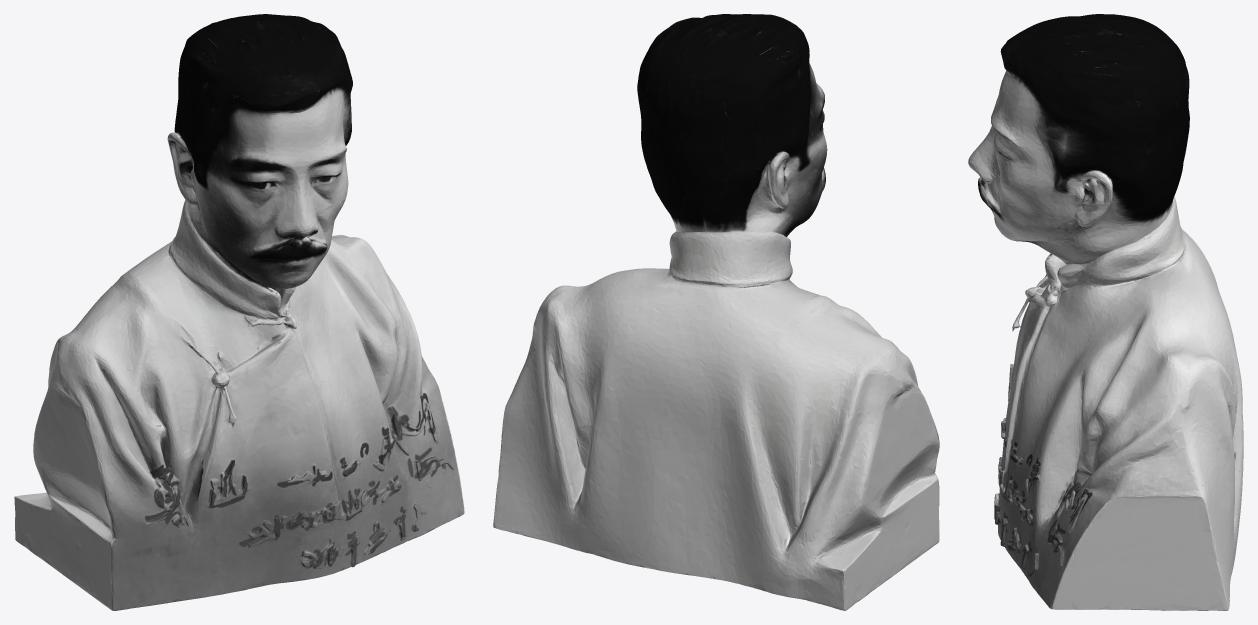
Rendered from lu_xun3d.glb.
The picture shows the model from 3 angles, left to right: view 1: azimuth 30°, elevation 25°; view 2: azimuth 150°, elevation 25°; view 3: azimuth 270°, elevation 25°; orthographic projection. The views are drawn at different scales.
Parts seen in each view (by area): view 1: world; view 2: world; view 3: world.
Part boxes in pixels (<box>): world: <box>14,14,464,610</box>; world: <box>493,14,939,610</box>; world: <box>968,14,1243,610</box>.
Size of the model in its own units: 1.5 by 1.99 by 0.9967.
Materials: 1 (1 with a texture image).
